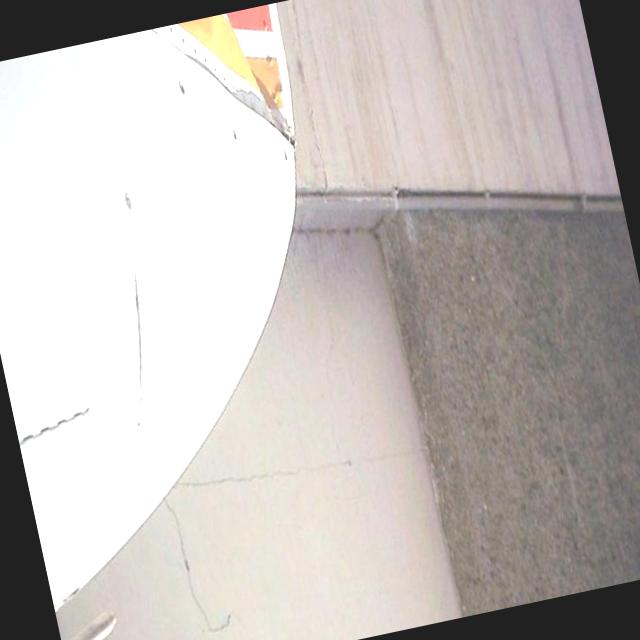dent: (216, 0, 318, 174)
